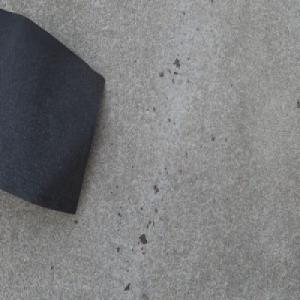PaintChip: (0, 8, 106, 216)
